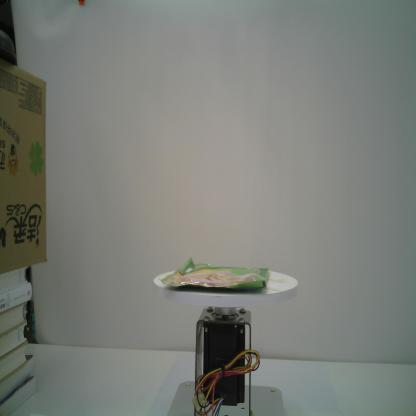Seasoner: (160, 257, 271, 290)
